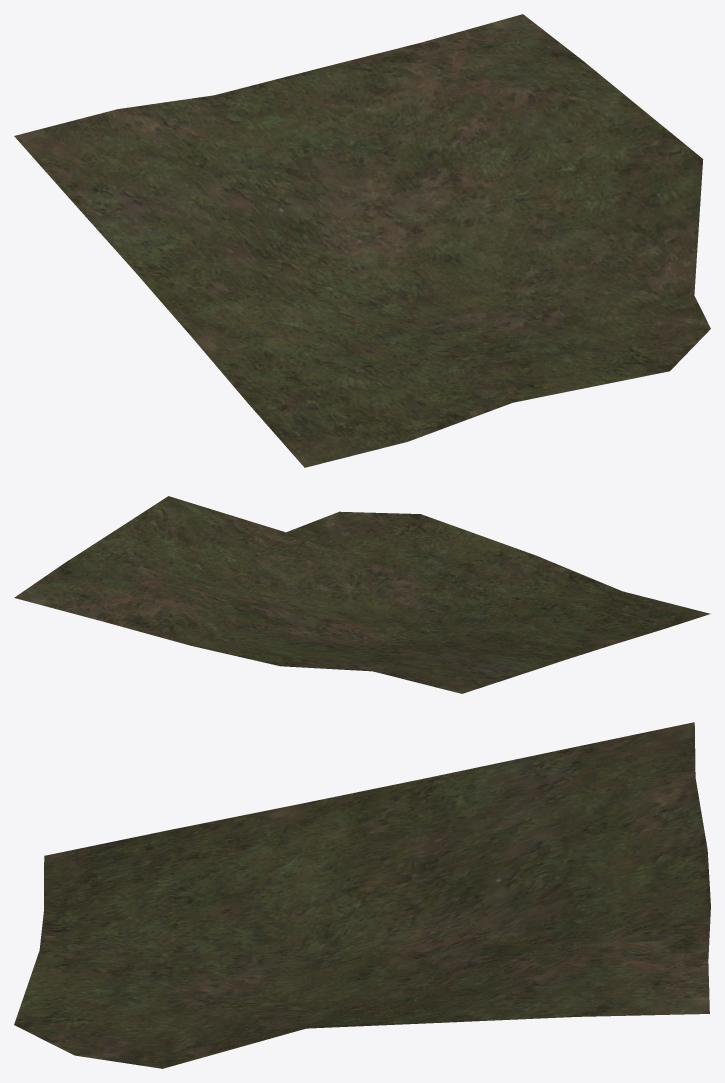
Rendered from blend_weeds13.fbx.
3 views of the same model, one above another, from view 1: azimuth 30°, elevation 25°; view 2: azimuth 150°, elevation 25°; view 3: azimuth 270°, elevation 25° (orthographic). The views are drawn at different scales.
Parts seen in each view (by area): view 1: New_terrain/brushblend_shadow; view 2: New_terrain/brushblend_shadow; view 3: New_terrain/brushblend_shadow.
Boxes of the visible parts, x1=… form: New_terrain/brushblend_shadow: x1=14, y1=14, x2=710, y2=467; New_terrain/brushblend_shadow: x1=14, y1=496, x2=710, y2=693; New_terrain/brushblend_shadow: x1=14, y1=722, x2=710, y2=1068.
Bounding box in the file's own units: 12.5 × 2.79 × 13.07.
